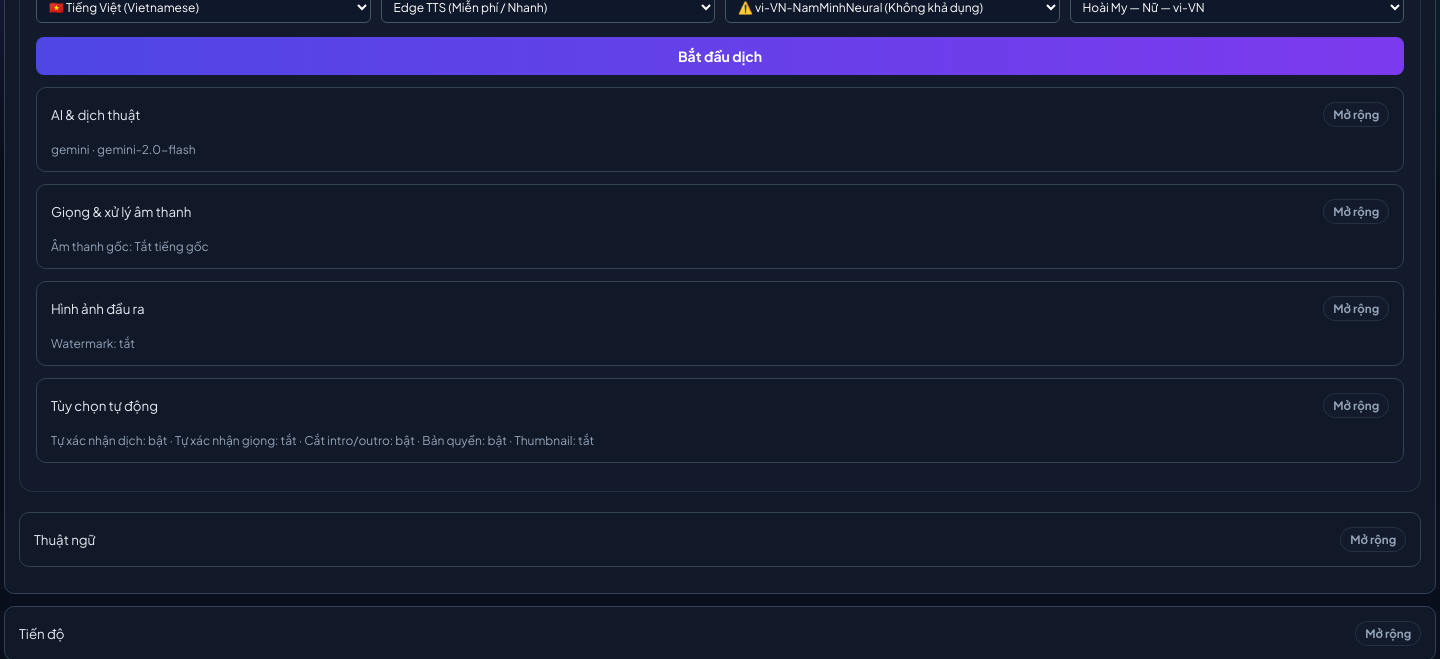
Scenario: tracks automatic voice confirmation as an unsaved setting
(page scrolled)
Expected: the button "Bắt đầu dịch" is enabled, [36,37,1404,75]
Expected: the text "Bạn có thay đổi cấu hình dự án chưa lưu." is not shown
Click the button "Tùy chọn tự động Mở rộng": (105, 405) [37,379,1403,432]
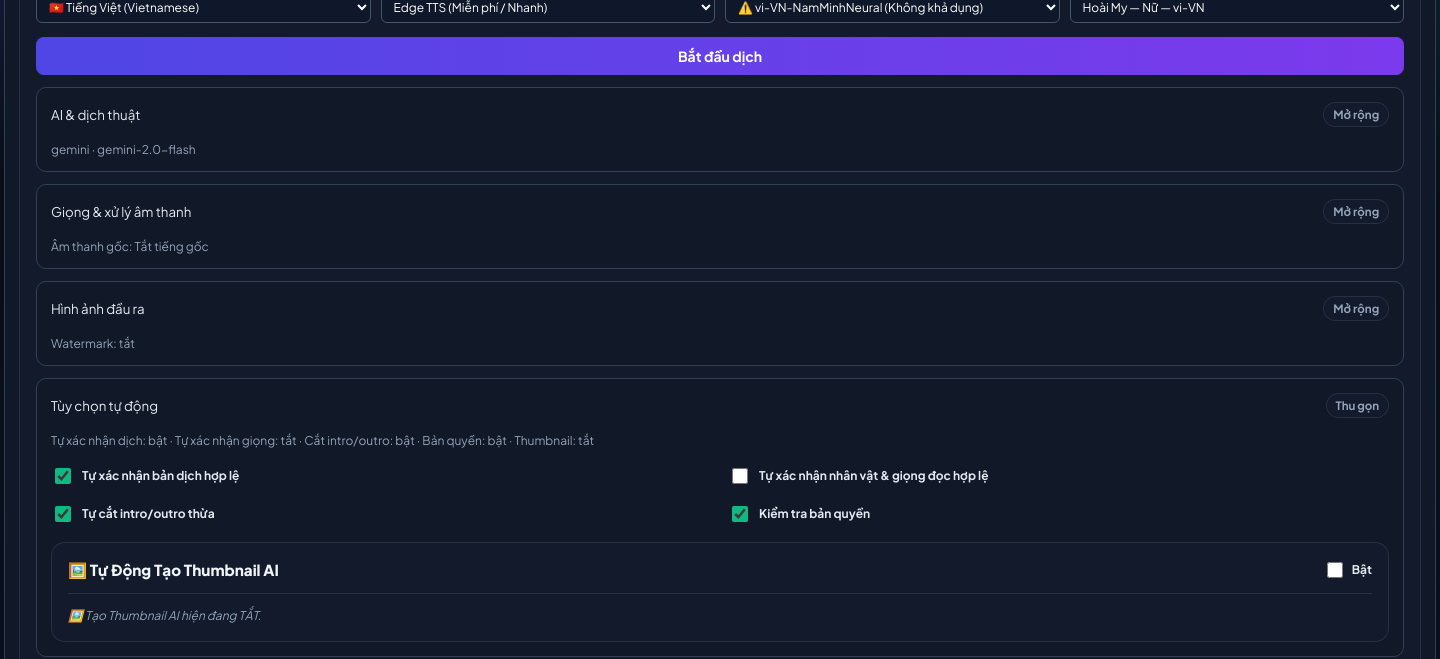
Click the checkbox labelled "Tự xác nhận nhân vật & giọng đọc hợp lệ": (740, 476) [732,468,748,484]
(page scrolled)
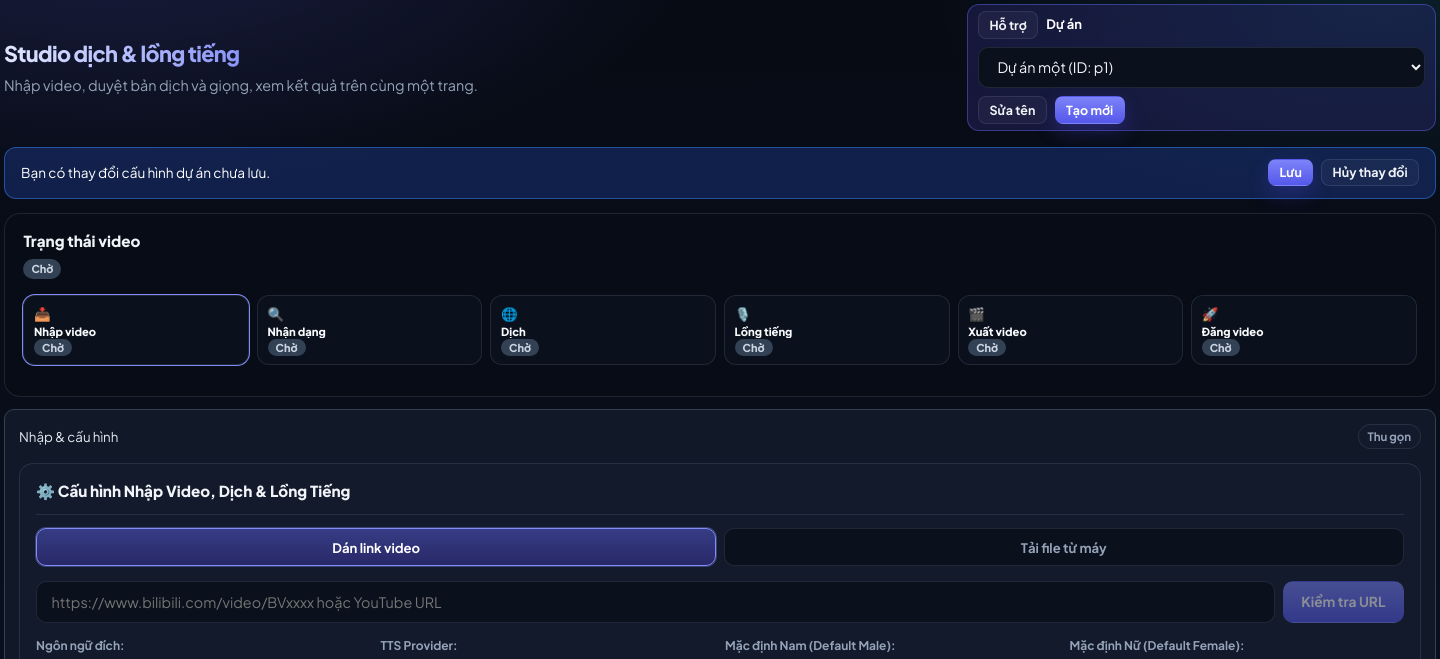
Expected: the text "Bạn có thay đổi cấu hình dự án chưa lưu." is shown, [21,162,270,183]
